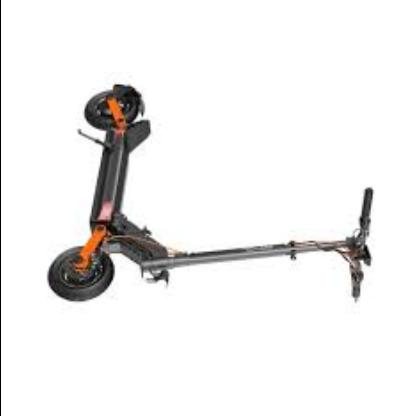bike: (47, 84, 378, 305)
